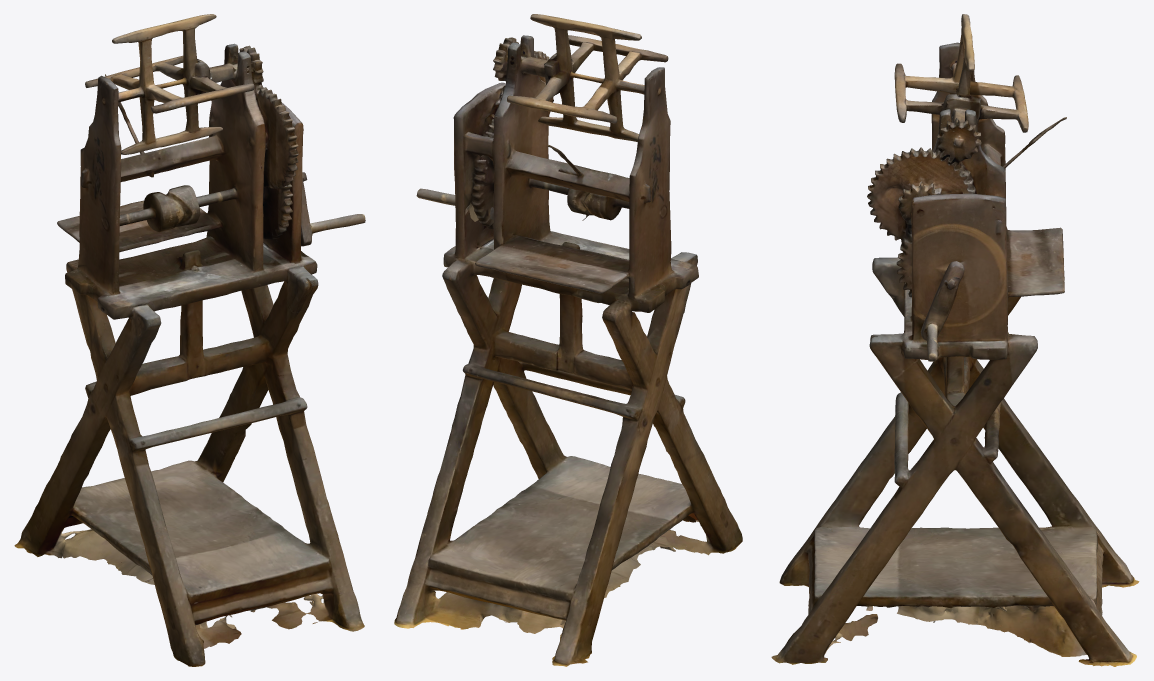
The model's file is Zaguriki.glb.
The picture shows the model from 3 angles, left to right: view 1: azimuth 30°, elevation 25°; view 2: azimuth 150°, elevation 25°; view 3: azimuth 270°, elevation 25°; orthographic projection.
Parts seen in each view (by area): view 1: mesh0_prim0, mesh0_prim1, mesh0_prim2, mesh0_prim3, mesh0_prim4, mesh0_prim6, mesh0_prim5, mesh0_prim7, mesh0_prim8, mesh0_prim9, mesh0_prim10; view 2: mesh0_prim0, mesh0_prim2, mesh0_prim1, mesh0_prim4, mesh0_prim5, mesh0_prim7, mesh0_prim6, mesh0_prim3, mesh0_prim8, mesh0_prim9, mesh0_prim10; view 3: mesh0_prim0, mesh0_prim1, mesh0_prim2, mesh0_prim5, mesh0_prim8, mesh0_prim3, mesh0_prim4, mesh0_prim7, mesh0_prim6, mesh0_prim9.
Boxes of the visible parts, x1,y1,x2,y2 form: mesh0_prim0: [20, 14, 363, 666]; mesh0_prim1: [35, 31, 350, 587]; mesh0_prim2: [24, 37, 364, 664]; mesh0_prim3: [38, 35, 364, 643]; mesh0_prim4: [74, 42, 350, 650]; mesh0_prim6: [18, 29, 315, 649]; mesh0_prim5: [73, 14, 365, 647]; mesh0_prim7: [61, 23, 339, 660]; mesh0_prim8: [14, 22, 349, 638]; mesh0_prim9: [15, 55, 337, 623]; mesh0_prim10: [64, 48, 364, 631]; mesh0_prim0: [397, 14, 742, 666]; mesh0_prim2: [394, 18, 742, 659]; mesh0_prim1: [415, 28, 712, 660]; mesh0_prim4: [415, 26, 730, 630]; mesh0_prim5: [417, 14, 726, 633]; mesh0_prim7: [427, 21, 736, 660]; mesh0_prim6: [422, 30, 738, 663]; mesh0_prim3: [428, 38, 713, 624]; mesh0_prim8: [430, 24, 724, 665]; mesh0_prim9: [409, 39, 696, 665]; mesh0_prim10: [465, 31, 708, 627]; mesh0_prim0: [777, 14, 1134, 664]; mesh0_prim1: [802, 15, 1128, 666]; mesh0_prim2: [771, 17, 1136, 665]; mesh0_prim5: [785, 45, 1100, 664]; mesh0_prim8: [780, 64, 1137, 664]; mesh0_prim3: [811, 46, 1103, 653]; mesh0_prim4: [797, 45, 1097, 648]; mesh0_prim7: [802, 57, 1131, 663]; mesh0_prim6: [809, 71, 1076, 639]; mesh0_prim9: [830, 67, 1139, 664].
Bounding box in the file's own units: 2.17 × 4.41 × 2.57.
11 materials, 11 textured.
